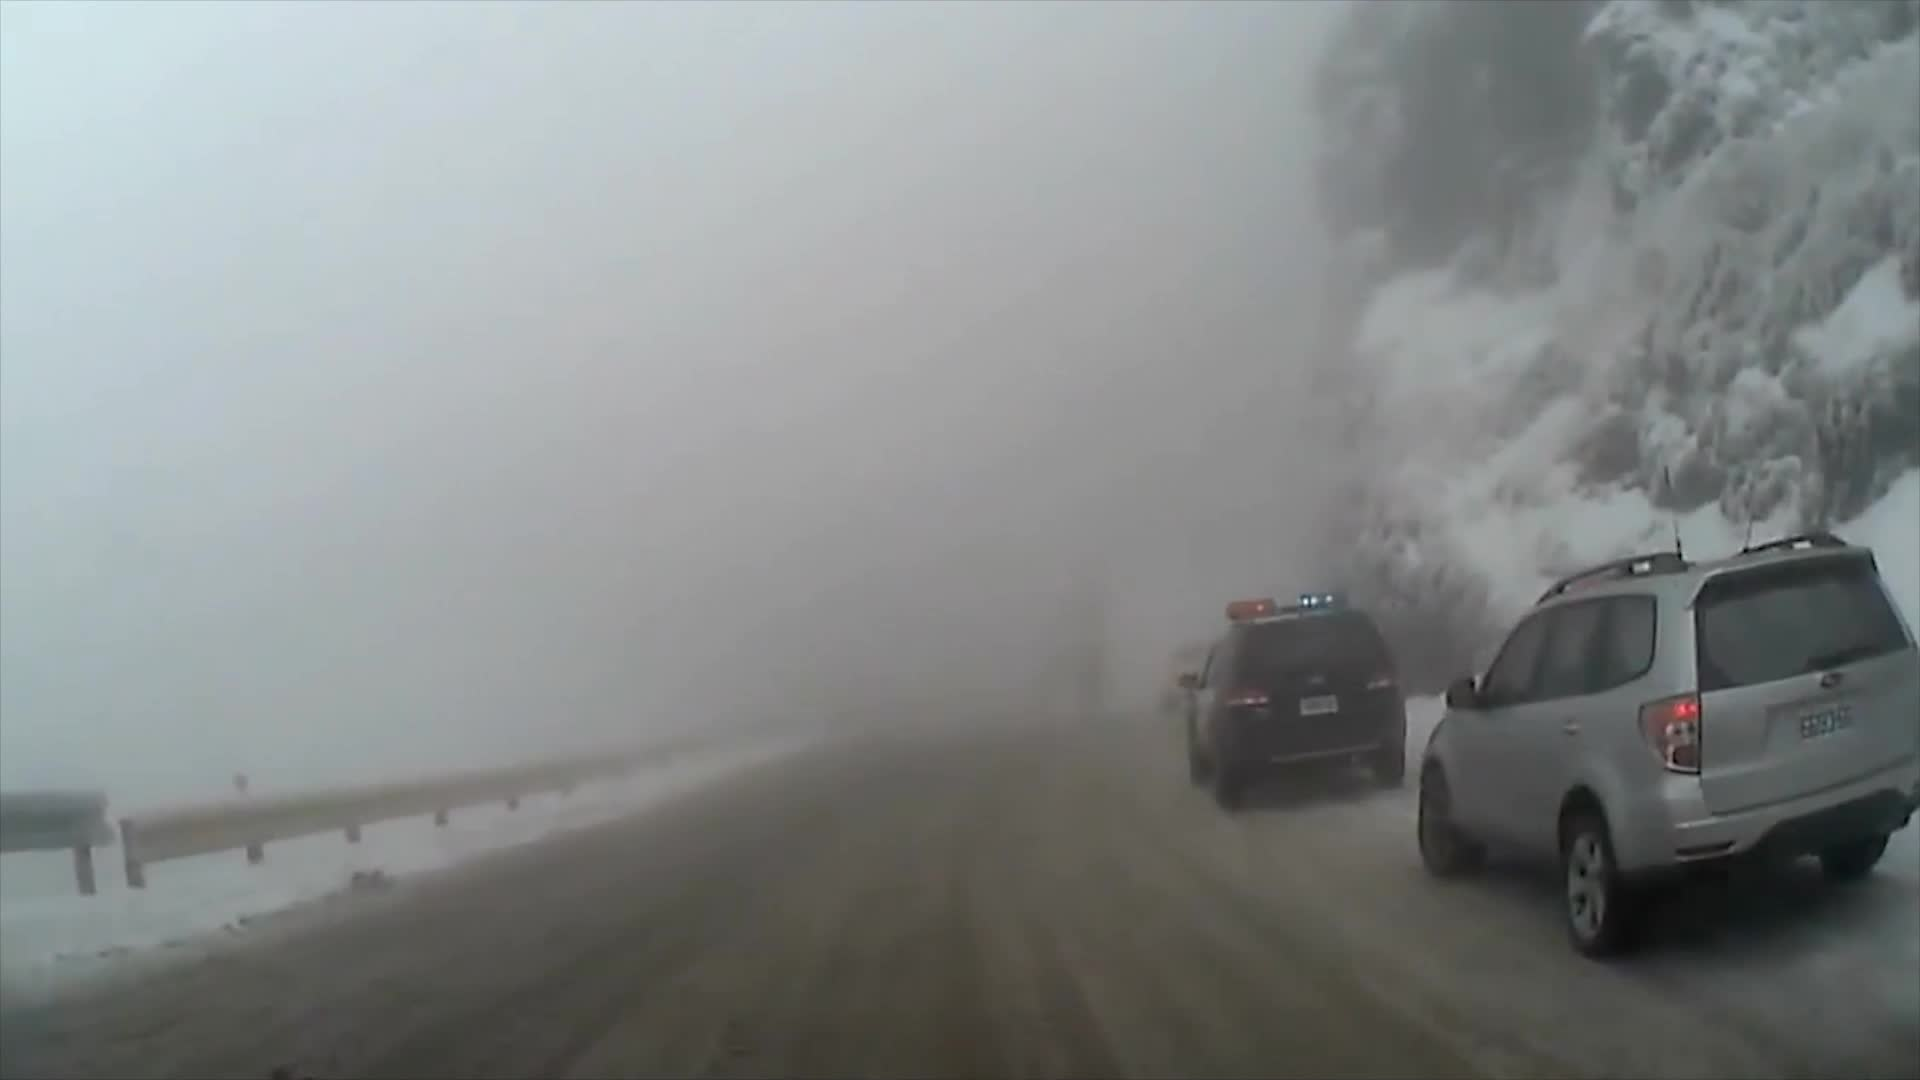vehicle: (1414, 527, 1920, 957), (1176, 585, 1407, 808)
